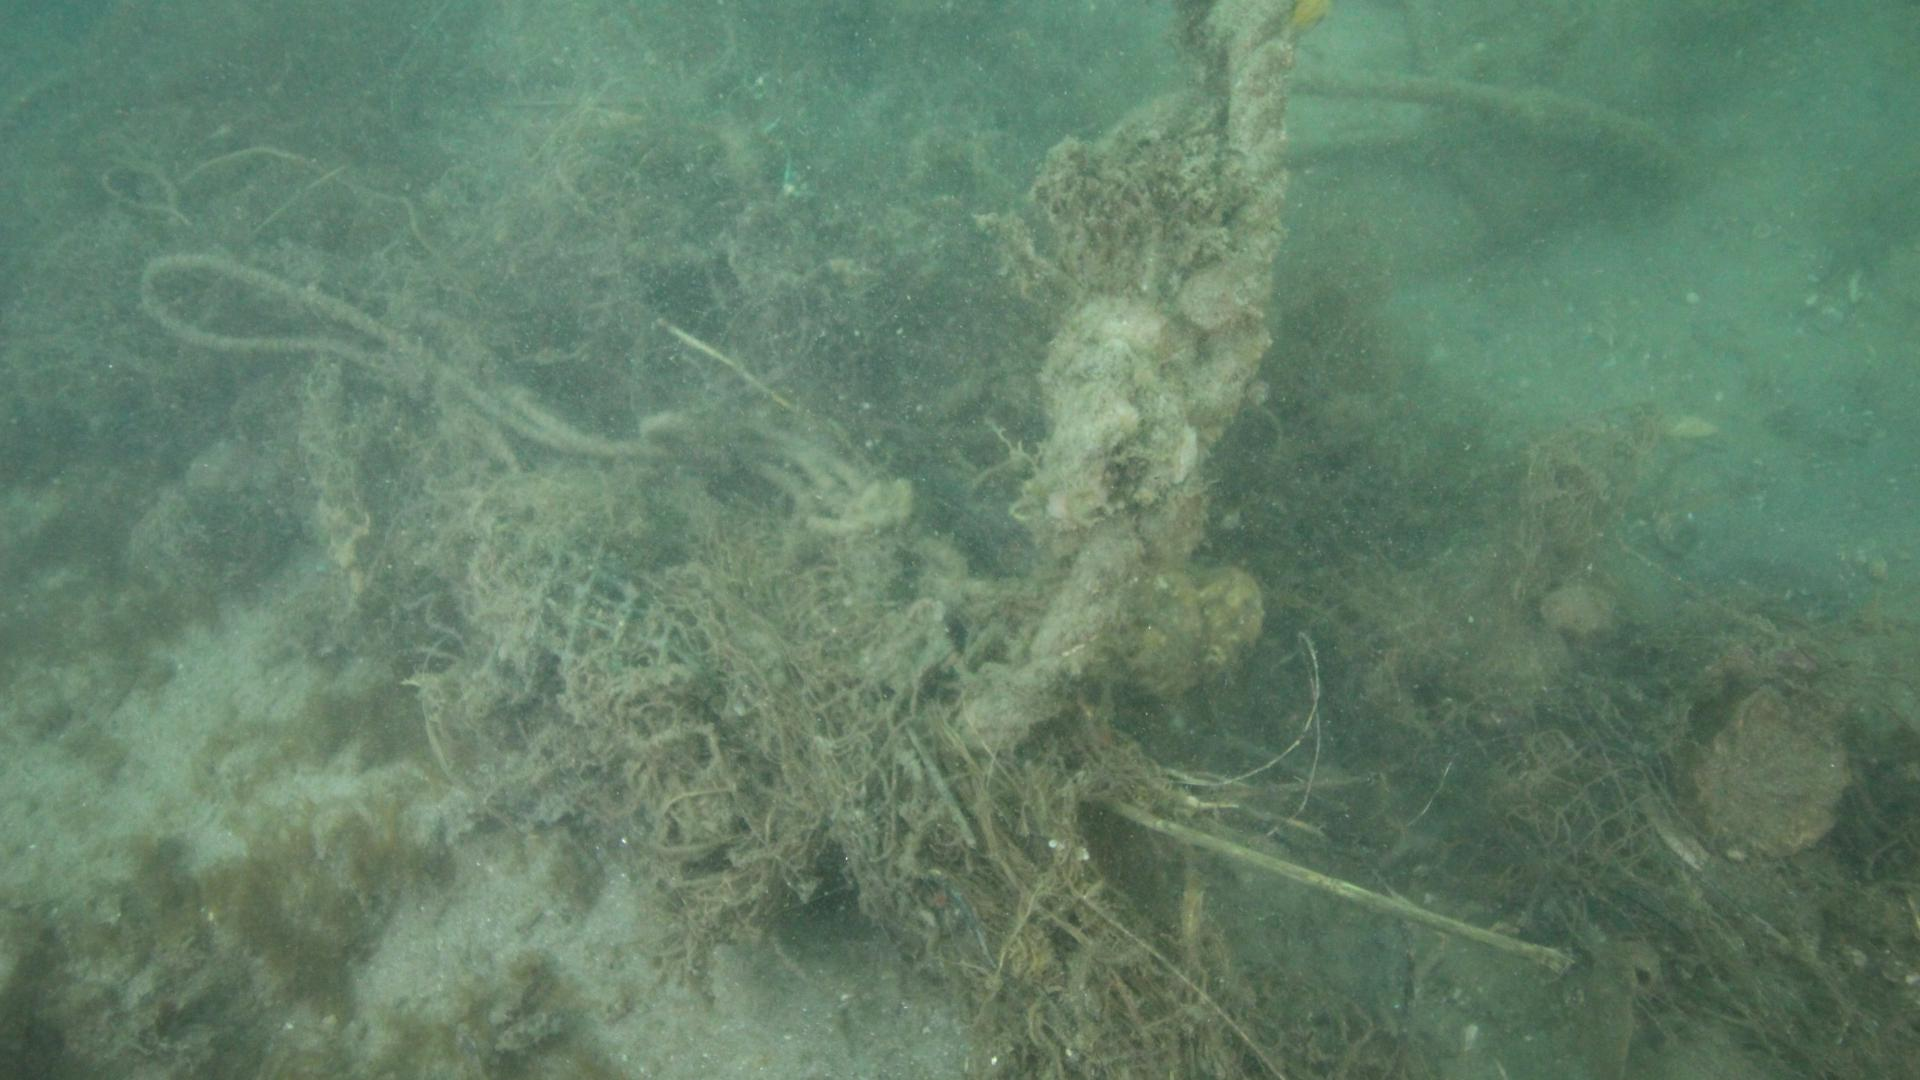bundle of ropes: (953, 0, 1286, 741), (137, 251, 916, 535)
